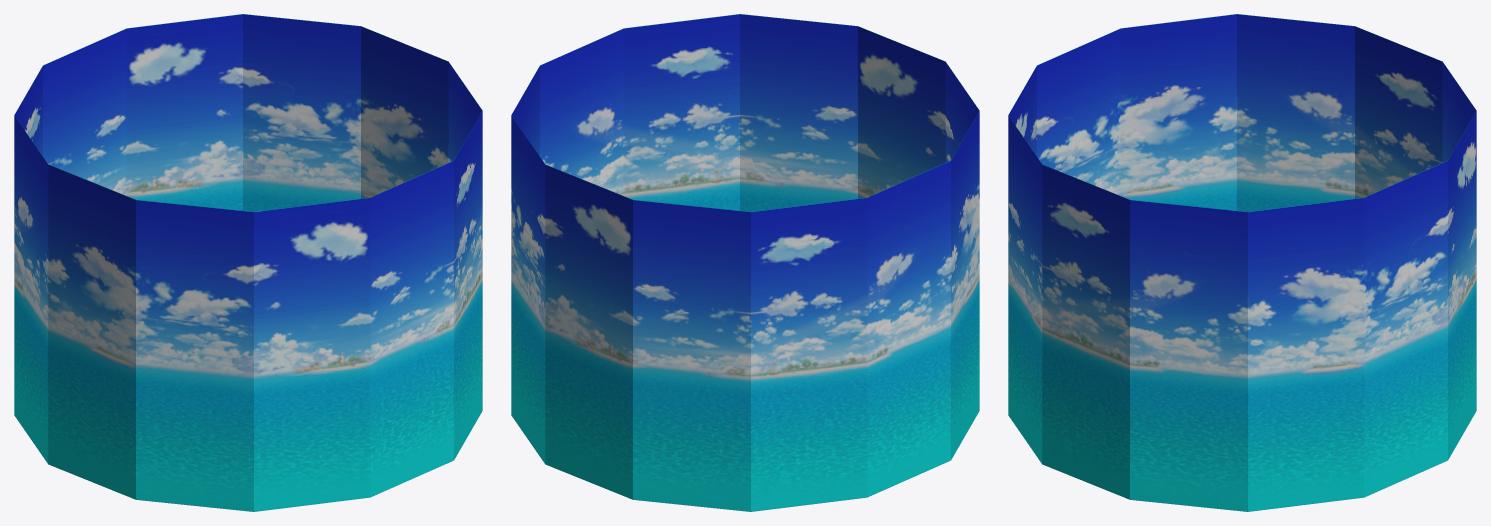
The model's file is blue_lagoon_1.glb.
3 views of the same model, side by side, from view 1: azimuth 30°, elevation 25°; view 2: azimuth 150°, elevation 25°; view 3: azimuth 270°, elevation 25° (orthographic).
Parts seen in each view (by area): view 1: export; view 2: export; view 3: export.
Boxes of the visible parts, x1,y1,x2,y2 form: export: (14, 14, 482, 511); export: (511, 14, 979, 511); export: (1008, 14, 1476, 511).
Bounding box in the file's own units: 1200 × 848 × 1200.
Materials: 64 (64 with a texture image).
